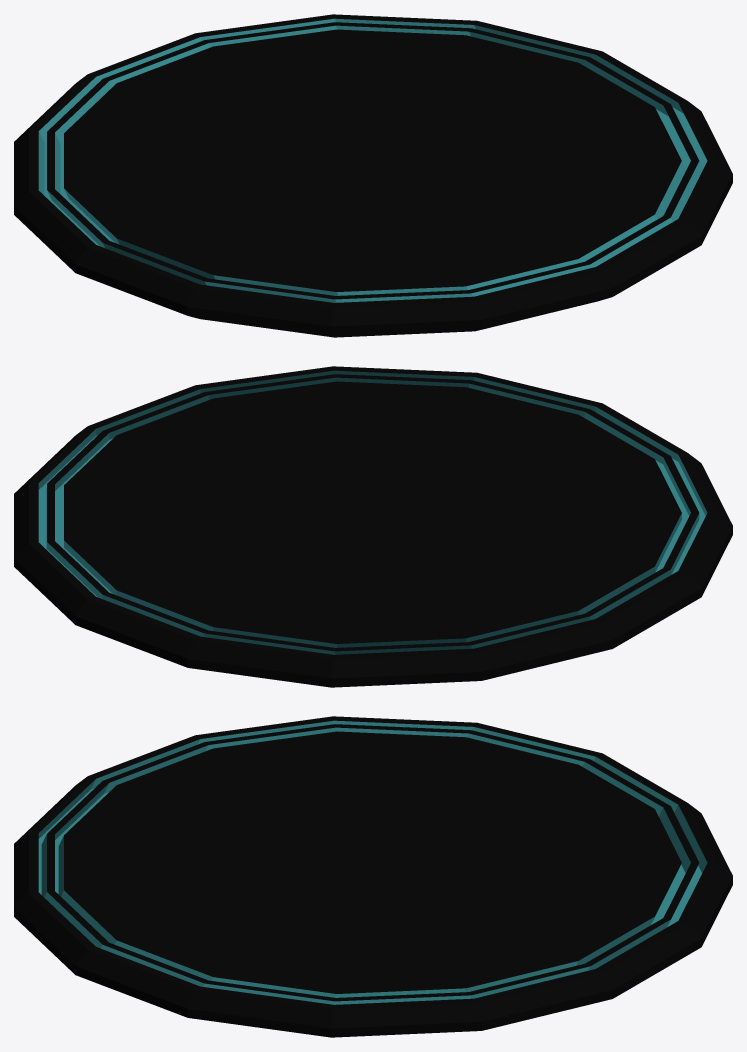
File: obj_podio.fbx
The picture shows the model from 3 angles, top to bottom: view 1: azimuth 30°, elevation 25°; view 2: azimuth 150°, elevation 25°; view 3: azimuth 270°, elevation 25°; orthographic projection.
Visible parts, largest first — view 1: obj_podio; view 2: obj_podio; view 3: obj_podio.
Boxes of the visible parts, x1=… form: obj_podio: x1=14, y1=14, x2=732, y2=337; obj_podio: x1=14, y1=366, x2=732, y2=687; obj_podio: x1=14, y1=716, x2=732, y2=1037.
Size of the model in its own units: 6.25 by 0.3084 by 6.22.
